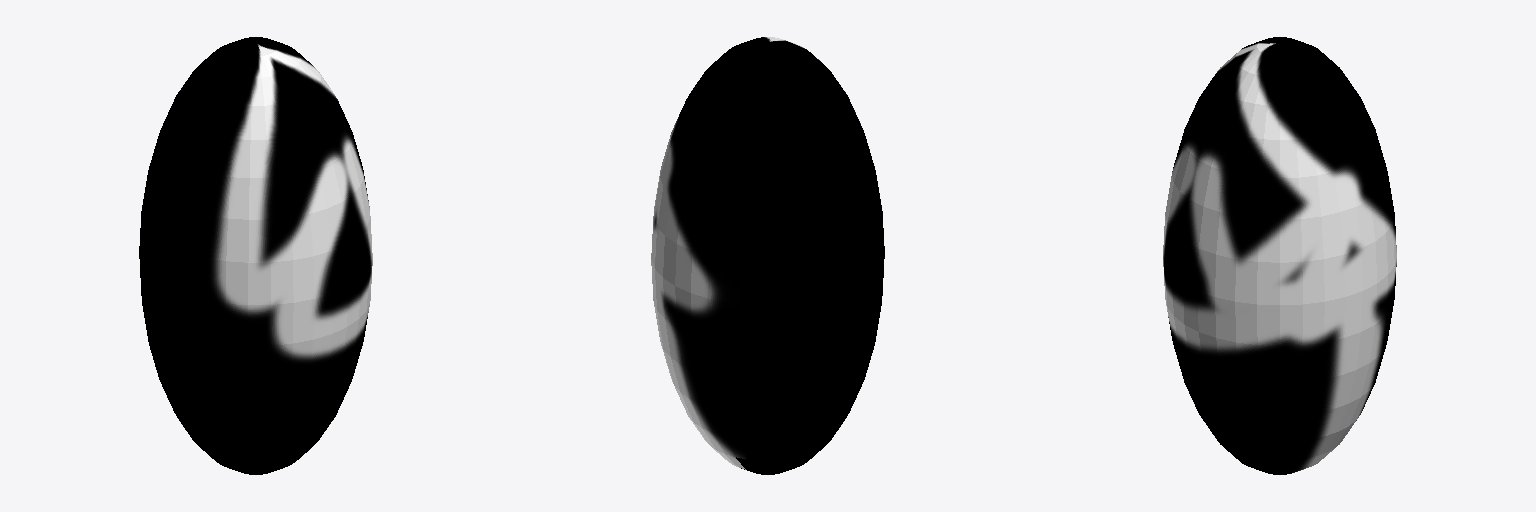
3 renders of one model, left to right at view 1: azimuth 30°, elevation 25°; view 2: azimuth 150°, elevation 25°; view 3: azimuth 270°, elevation 25°, orthographic.
Visible parts, largest first — view 1: Sphere; view 2: Sphere; view 3: Sphere.
Boxes of the visible parts, x1,y1,x2,y2 form: Sphere: [139, 37, 372, 474]; Sphere: [651, 37, 884, 474]; Sphere: [1163, 37, 1396, 474].
Size of the model in its own units: 2 by 4.02 by 2.
1 materials, 1 textured.